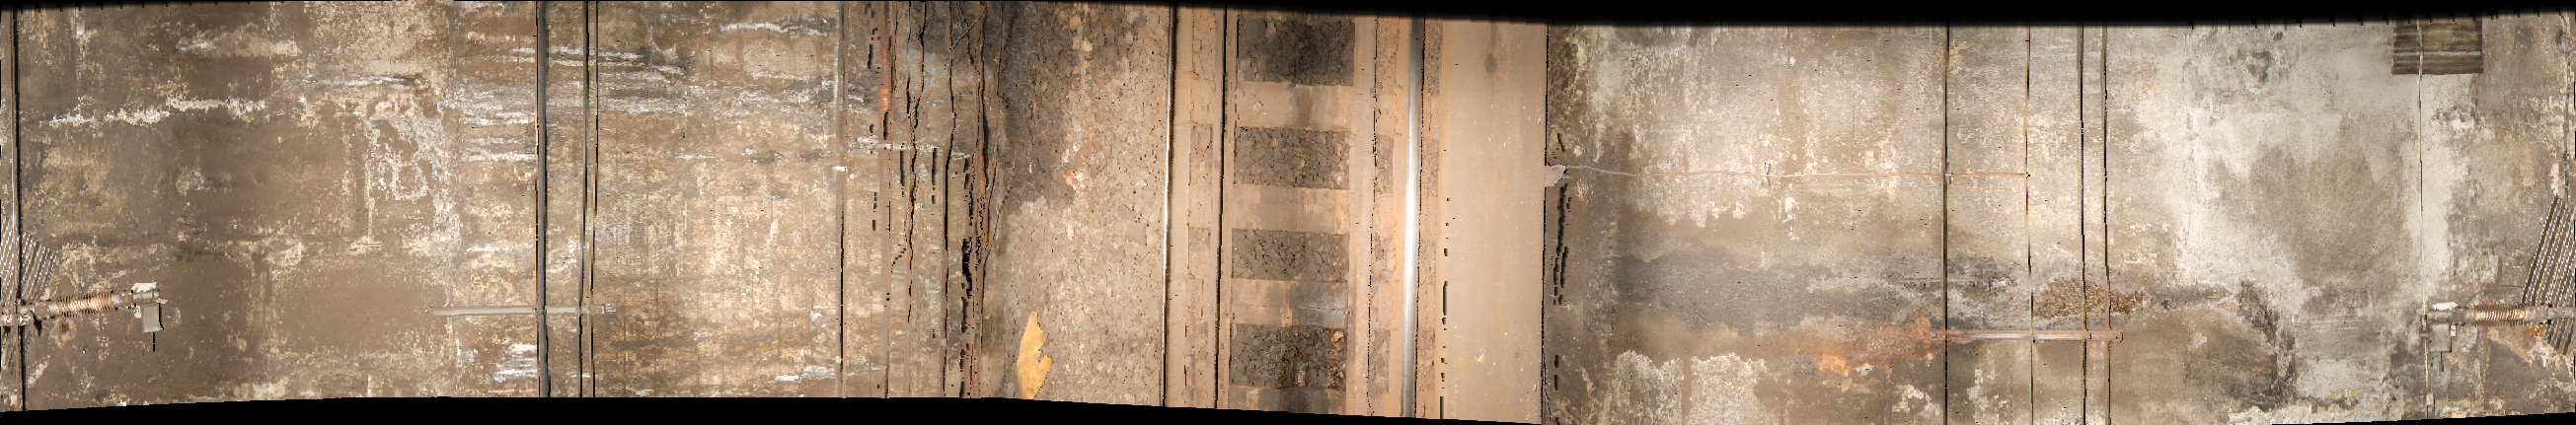pipes: (872, 11, 1012, 386), (527, 13, 605, 425), (2068, 26, 2126, 425), (1925, 18, 1966, 425), (2022, 26, 2034, 425)
tracks: (1158, 3, 1437, 425)
